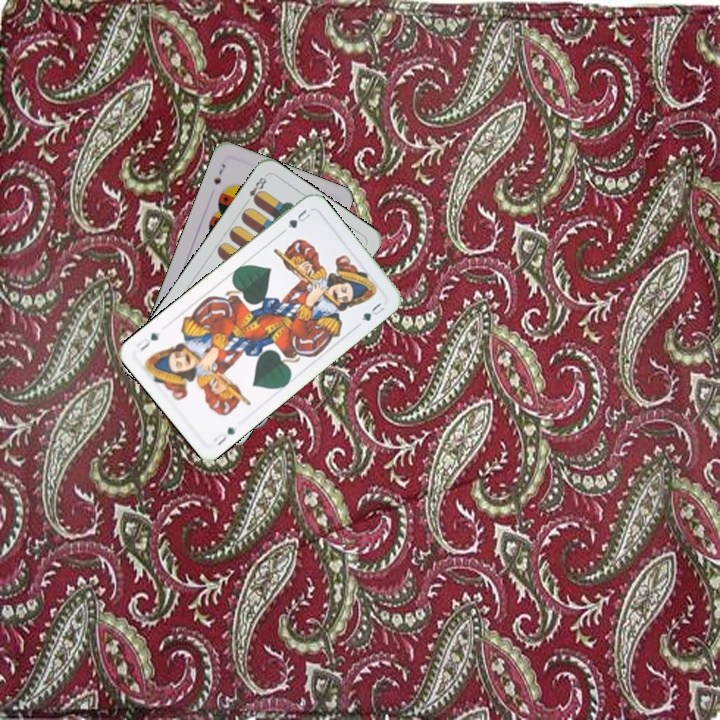E8: (241, 173, 269, 207)
GU: (283, 205, 313, 231), (209, 423, 239, 448)
S7: (209, 159, 228, 187)
